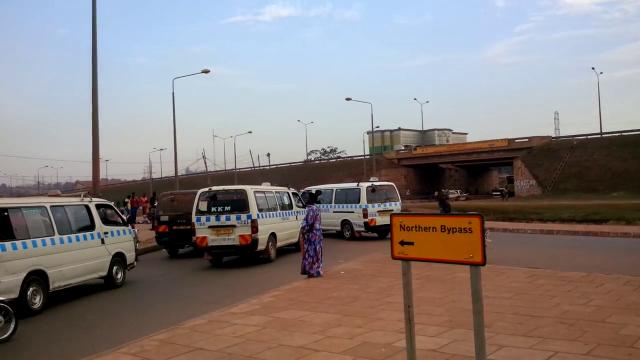van: (0, 188, 138, 312), (195, 182, 297, 261), (304, 180, 396, 239), (153, 189, 203, 257)
